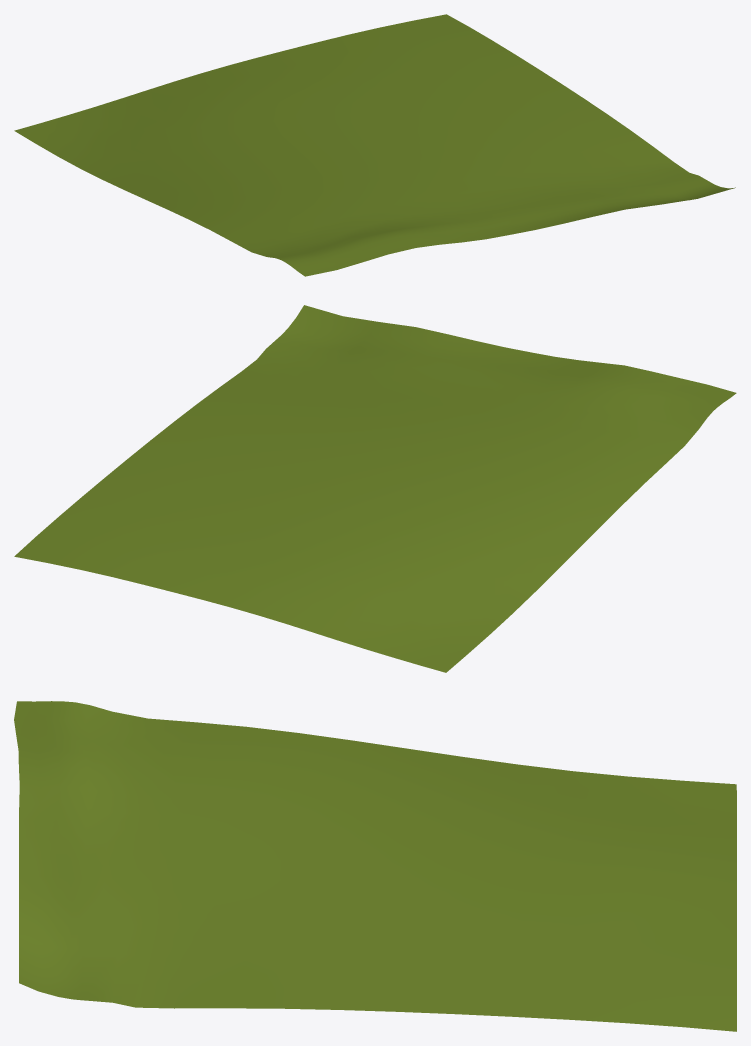
The model's file is ground.glb.
3 renders of one model, top to bottom at view 1: azimuth 30°, elevation 25°; view 2: azimuth 150°, elevation 25°; view 3: azimuth 270°, elevation 25°, orthographic. The views are drawn at different scales.
Visible parts, largest first — view 1: ground; view 2: ground; view 3: ground.
Part boxes in pixels (x1,y1,x2,y2): ground: (14,14,735,276); ground: (14,305,736,672); ground: (14,701,736,1031).
Bounding box in the file's own units: 259 × 39.09 × 303.
